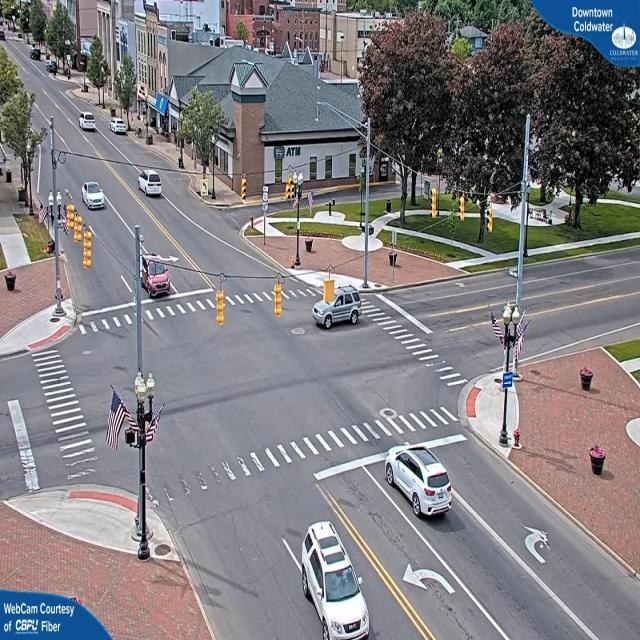car: (297, 521, 368, 640), (386, 445, 453, 519), (312, 285, 362, 330), (138, 244, 172, 298), (80, 182, 106, 210), (139, 170, 164, 199)
